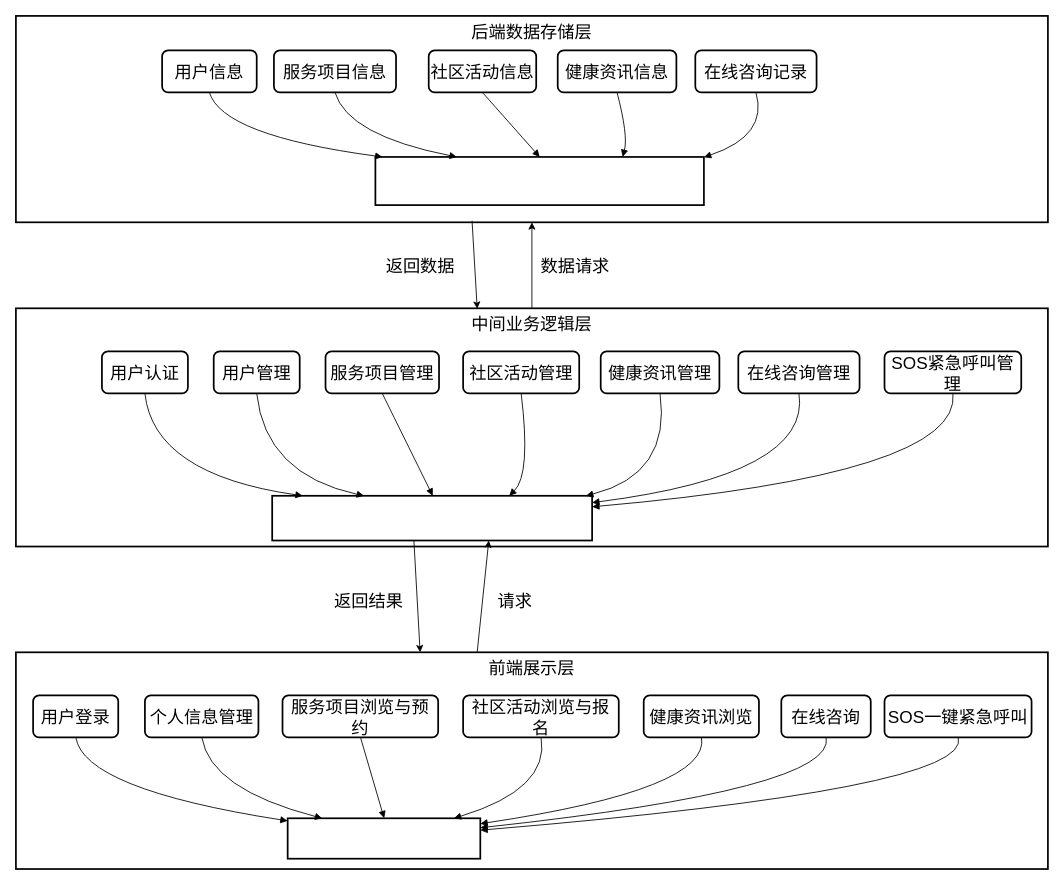
Image size: 1063x884. Some labels were removed from this diagram. The box of each missing label's shape, as (x1, y1, x2, y2) in pixels:
中间业务逻辑层 - Java + Spring Boot: (271, 494, 593, 541)
前端展示层 - 微信小程序: (286, 817, 481, 859)
后端数据存储层 - MySQL + MyBatis: (374, 156, 704, 206)
